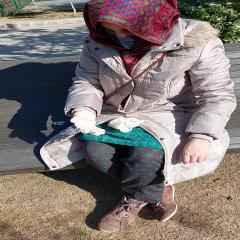gloved: (68, 109, 109, 135)
not-gloved: (182, 138, 210, 164)
